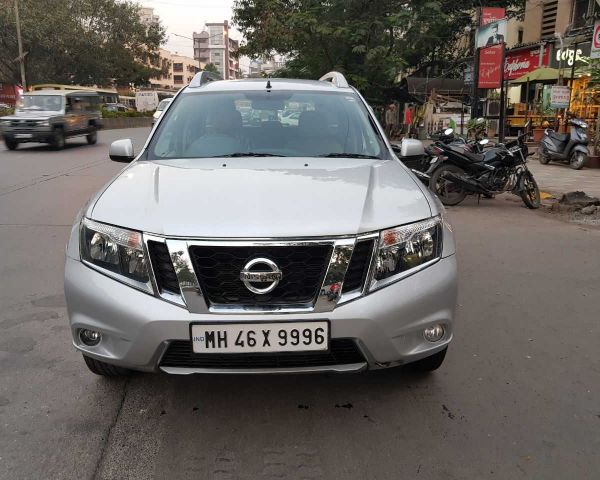number_plate: (183, 315, 335, 356)
